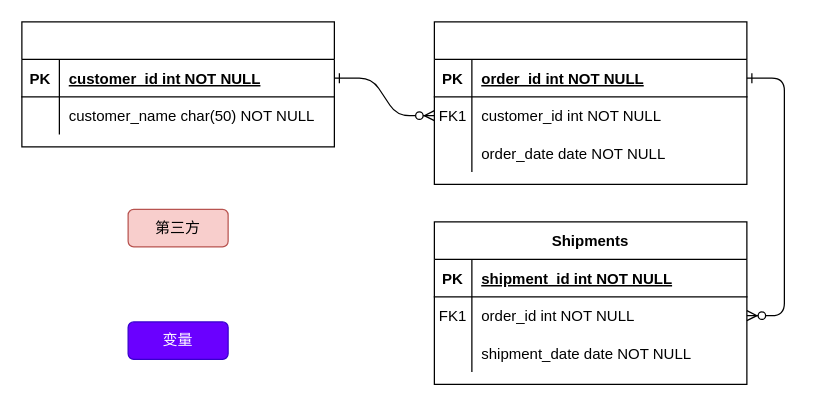
Image size: 818x406. Some labels were removed from this diagram. Each missing label, with the box of its shape:
Customers: (21, 21, 334, 147)
Orders: (433, 21, 747, 184)
